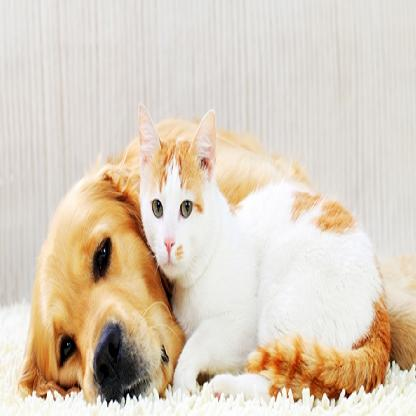cat: (19, 170, 149, 407), (132, 95, 235, 300)
